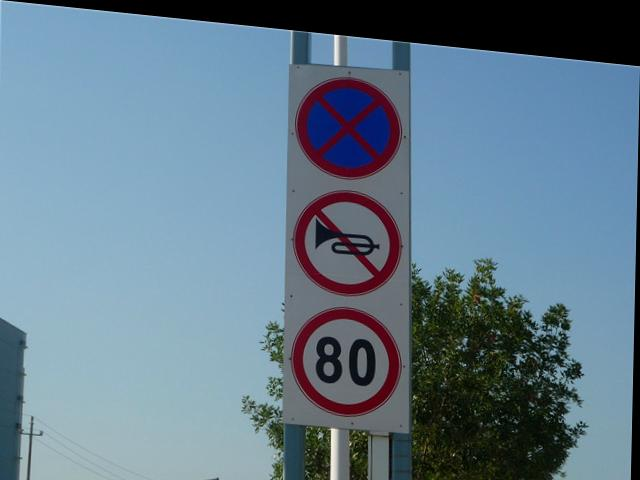limit80: (292, 292, 405, 414)
